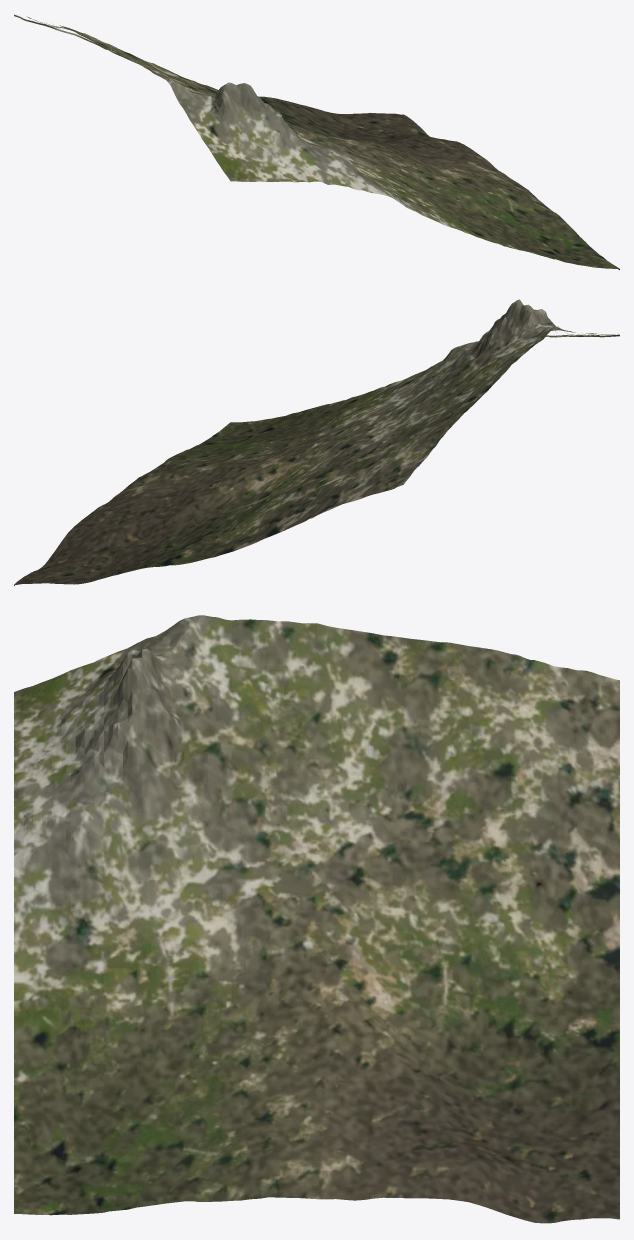
3 renders of one model, top to bottom at view 1: azimuth 30°, elevation 25°; view 2: azimuth 150°, elevation 25°; view 3: azimuth 270°, elevation 25°, orthographic. The views are drawn at different scales.
Bounding box in the file's own units: 250 × 151 × 241.
1 material, 1 textured.
